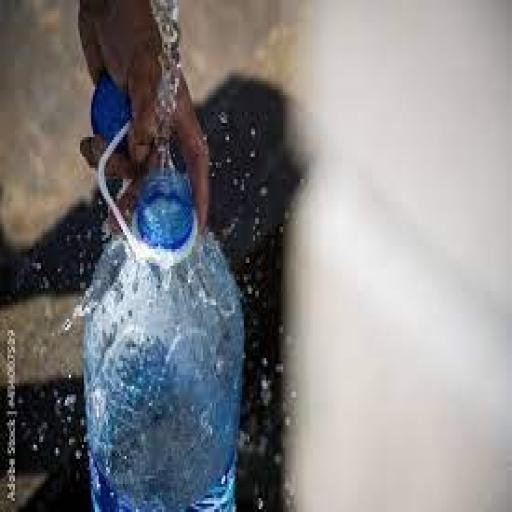bottle: (71, 139, 253, 512)
